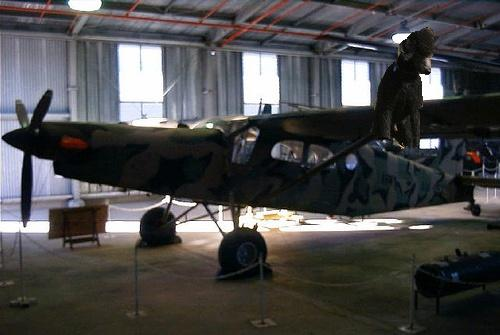tampered: (371, 28, 434, 149)
